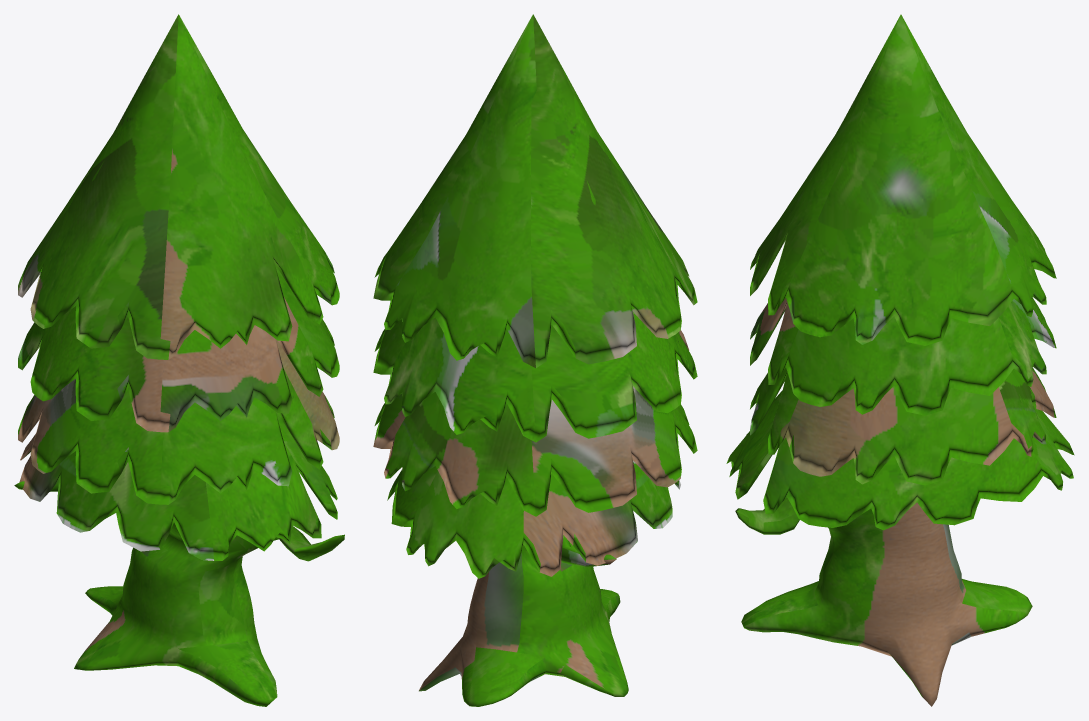
File: Evergreen2024.fbx
The picture shows the model from 3 angles, left to right: view 1: azimuth 30°, elevation 25°; view 2: azimuth 150°, elevation 25°; view 3: azimuth 270°, elevation 25°; orthographic projection. The views are drawn at different scales.
Visible parts, largest first — view 1: pCube2; view 2: pCube2; view 3: pCube2.
Part boxes in pixels (box(x1,y1,x2,y2)): pCube2: box(14, 14, 344, 706); pCube2: box(373, 14, 697, 706); pCube2: box(726, 14, 1074, 706).
Bounding box in the file's own units: 4.01 × 9.29 × 4.52.
